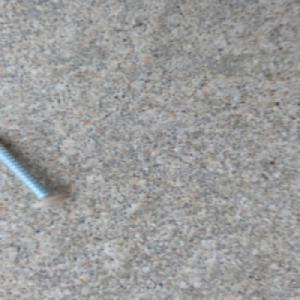Screw: (0, 133, 72, 210)
